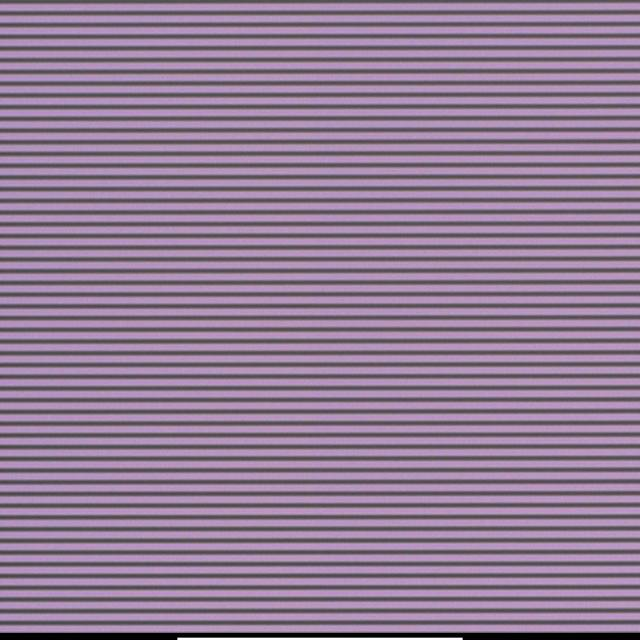nonvisual: (313, 346, 325, 359)
